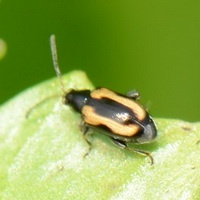insect: (50, 34, 156, 165)
